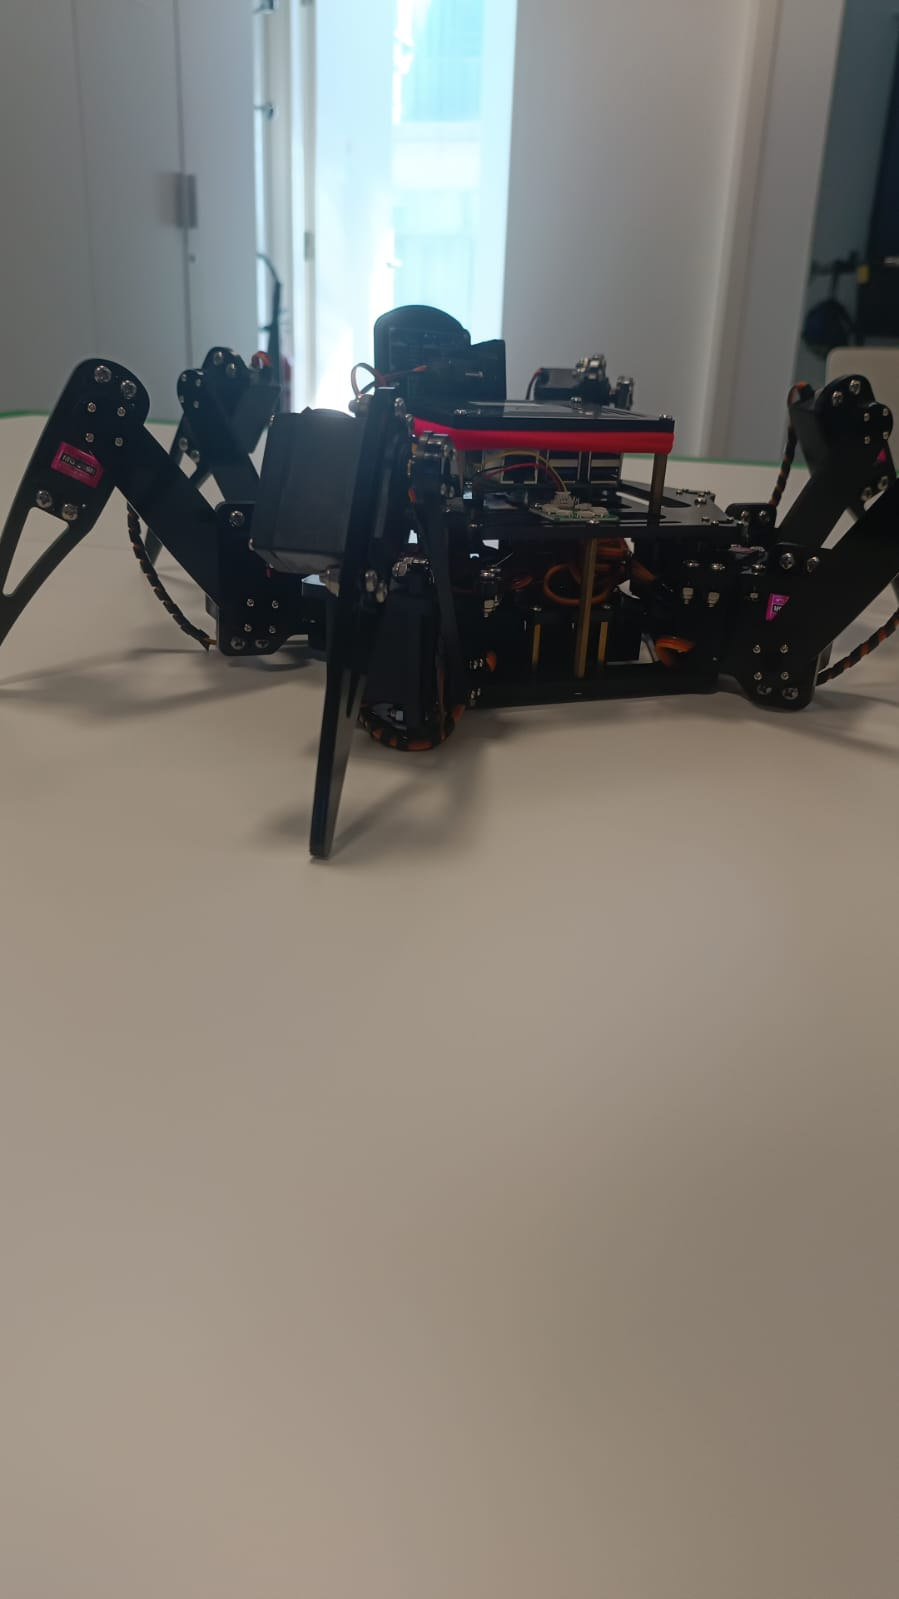hexapodo_propio: (0, 302, 899, 853)
